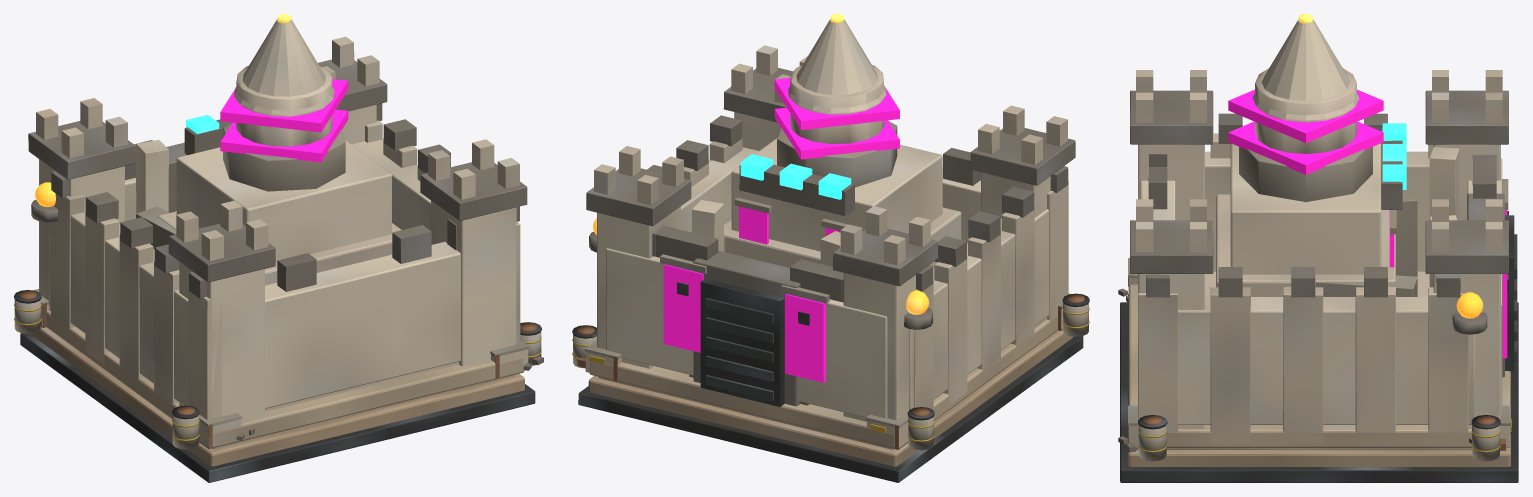
The model's file is palace.glb.
3 renders of one model, left to right at view 1: azimuth 30°, elevation 25°; view 2: azimuth 150°, elevation 25°; view 3: azimuth 270°, elevation 25°, orthographic. The views are drawn at different scales.
Parts seen in each view (by area): view 1: Sandwar3D; view 2: Sandwar3D; view 3: Sandwar3D.
Boxes of the visible parts, left/top/right/bottom form: Sandwar3D: left=14, top=14, right=543, bottom=482; Sandwar3D: left=572, top=14, right=1089, bottom=482; Sandwar3D: left=1118, top=14, right=1518, bottom=482.
Bounding box in the file's own units: 3.32 × 3.14 × 2.98.
Materials: 14 (13 with a texture image).
